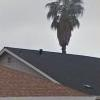Palm tree: (44, 1, 82, 56)
